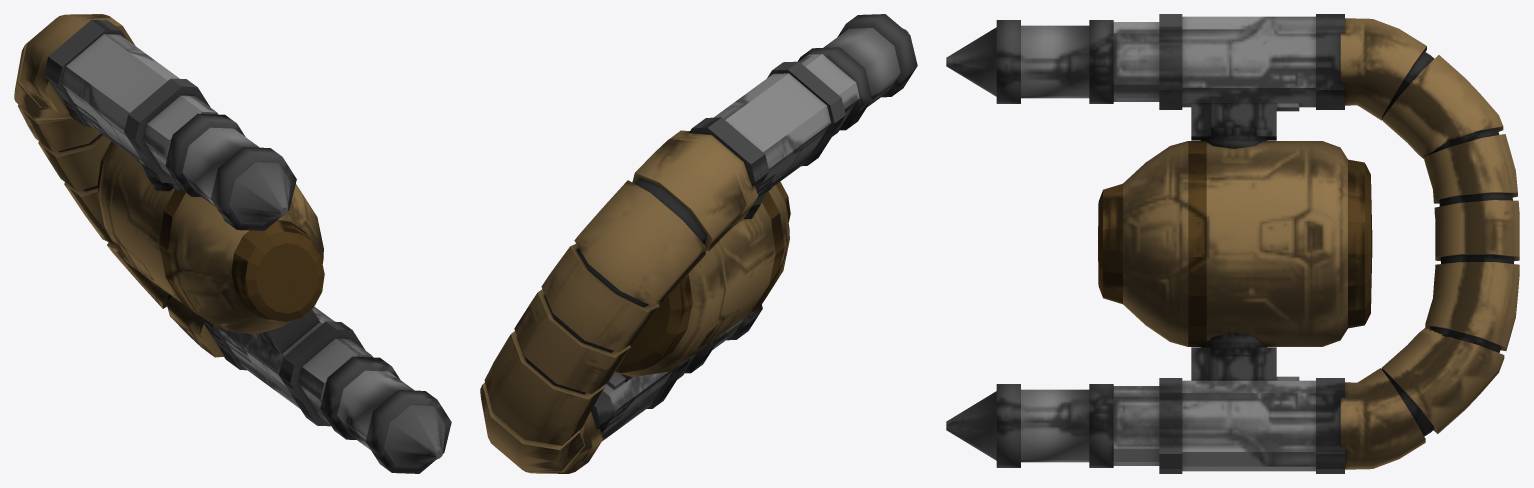
The model's file is newsh2-191-f3.glb.
The picture shows the model from 3 angles, left to right: view 1: azimuth 30°, elevation 25°; view 2: azimuth 150°, elevation 25°; view 3: azimuth 270°, elevation 25°; orthographic projection. The views are drawn at different scales.
Parts seen in each view (by area): view 1: newsh2-191-f3; view 2: newsh2-191-f3; view 3: newsh2-191-f3.
Boxes of the visible parts, x1,y1,x2,y2 form: newsh2-191-f3: (14,14,451,473); newsh2-191-f3: (480,14,917,473); newsh2-191-f3: (946,14,1519,473).
Bounding box in the file's own units: 0.7979 × 1.16 × 1.57.
7 materials, 7 textured.
